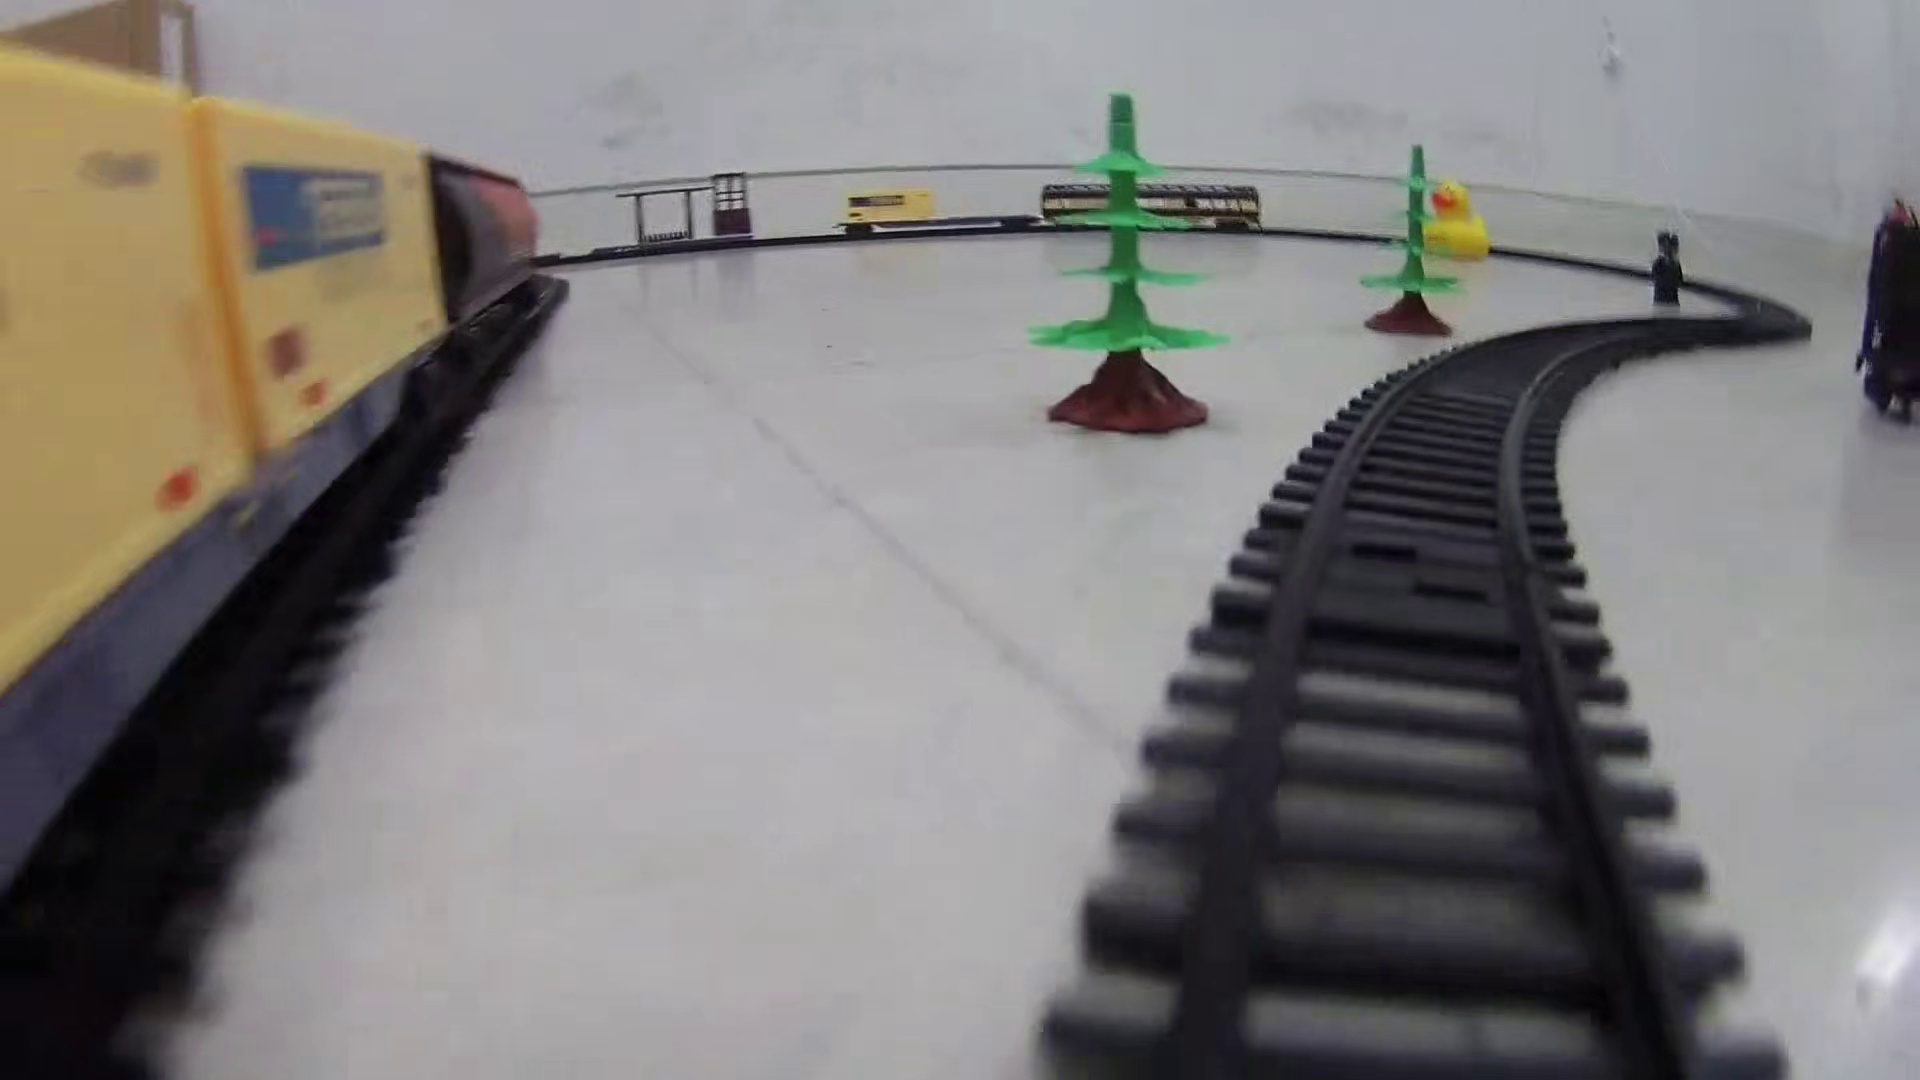people: (1647, 227, 1690, 312)
tree: (1029, 92, 1229, 435), (1355, 141, 1464, 338)
